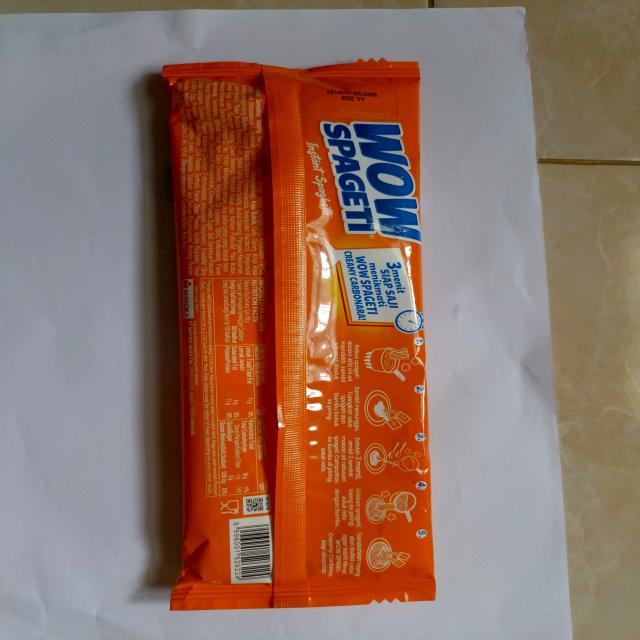indomie-tori-miso: (154, 57, 448, 619)
